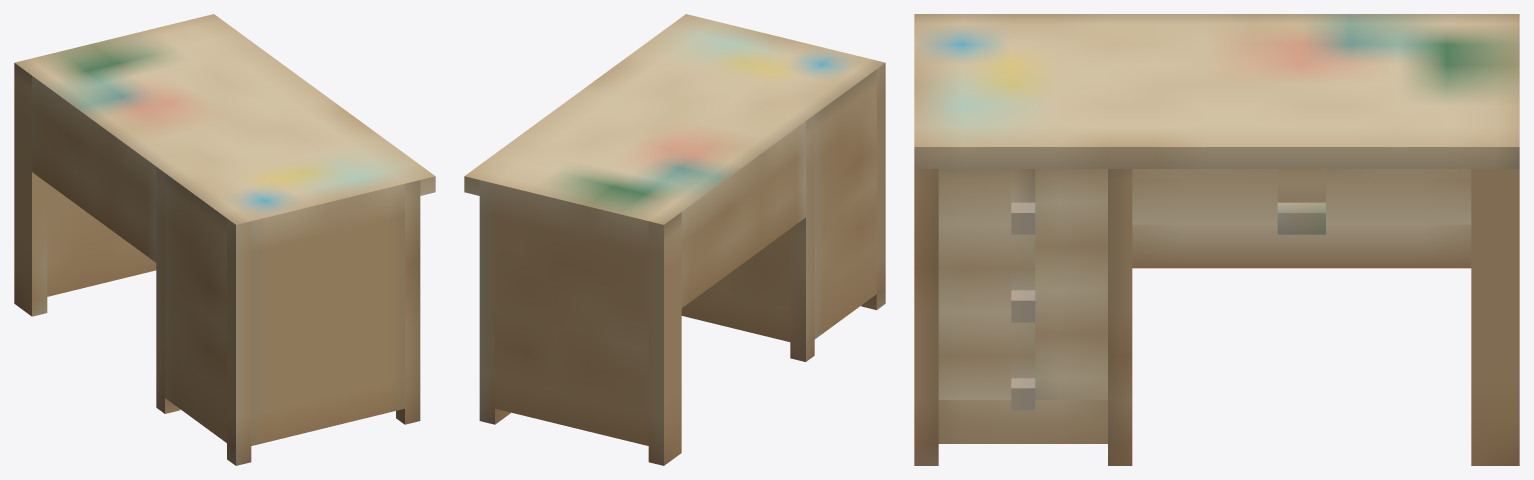
The model's file is TableCabinetBirch_00.obj.
The picture shows the model from 3 angles, left to right: view 1: azimuth 30°, elevation 25°; view 2: azimuth 150°, elevation 25°; view 3: azimuth 270°, elevation 25°; orthographic projection. The views are drawn at different scales.
Parts seen in each view (by area): view 1: TableCabinetBirch_00; view 2: TableCabinetBirch_00; view 3: TableCabinetBirch_00.
Boxes of the visible parts, <box> form: TableCabinetBirch_00: <box>14,14,435,465</box>; TableCabinetBirch_00: <box>464,14,885,465</box>; TableCabinetBirch_00: <box>914,14,1519,465</box>.
Bounding box in the file's own units: 0.65 × 0.75 × 1.25.
